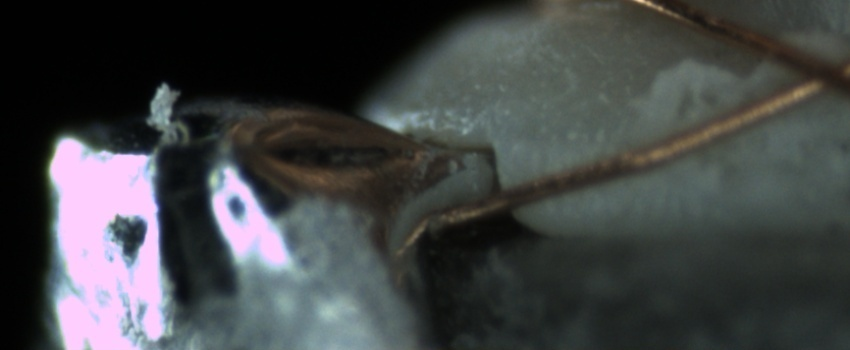CL: (759, 36, 846, 108)
